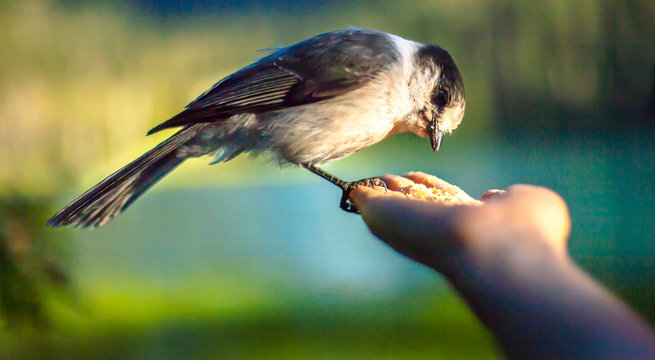bird: (31, 21, 480, 231)
